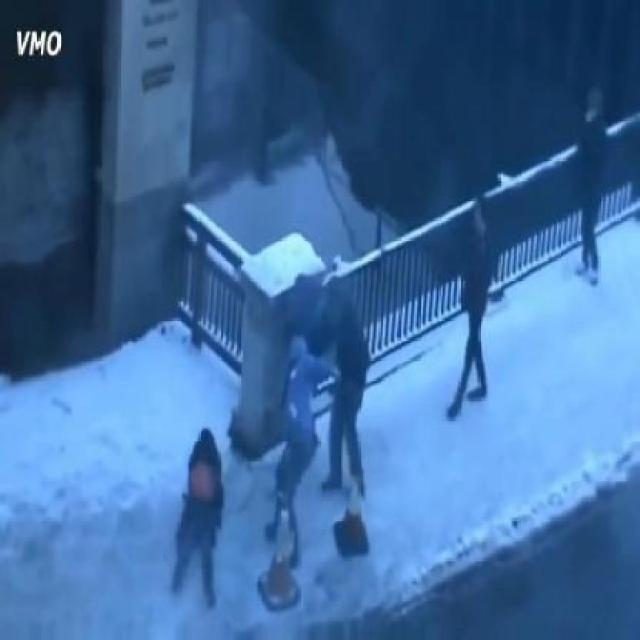fall: (168, 420, 224, 608)
